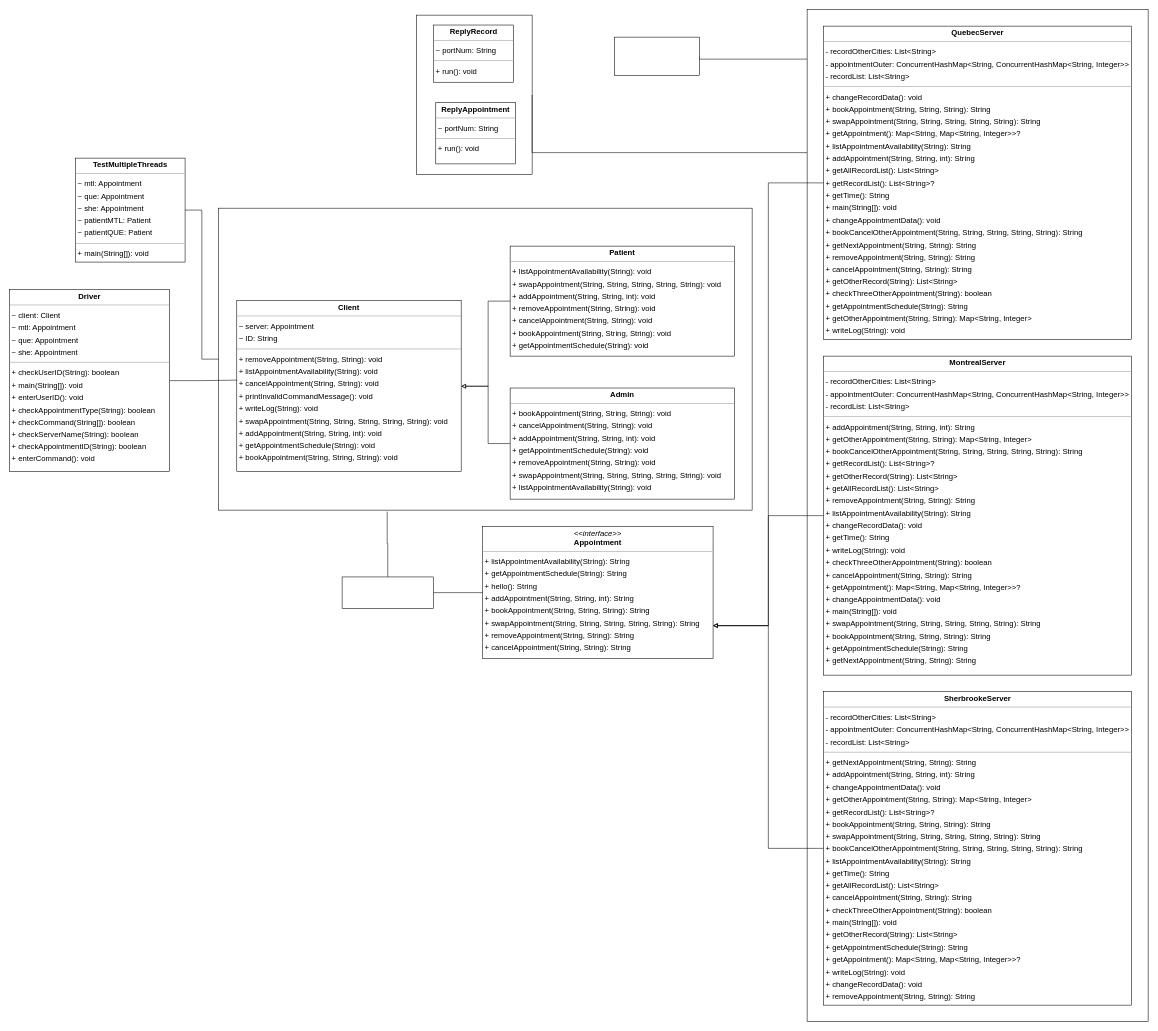
The diagram is 1158 pixels wide and 1031 high, and some of its shapes have lost their labels. The shapes that lost their labels are listed below. From the top down, each one's box as (x1, y1, x2, y2) in pixels, then its label:
(614, 37, 699, 76): Constants
(342, 576, 433, 608): Publish + main(String[]): void
